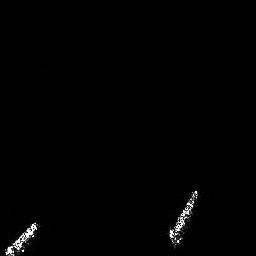ship: (164, 187, 199, 251), (1, 220, 42, 256)
